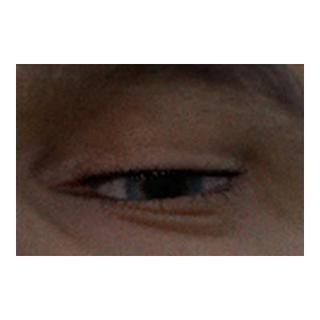pupil: (146, 168, 182, 203)
